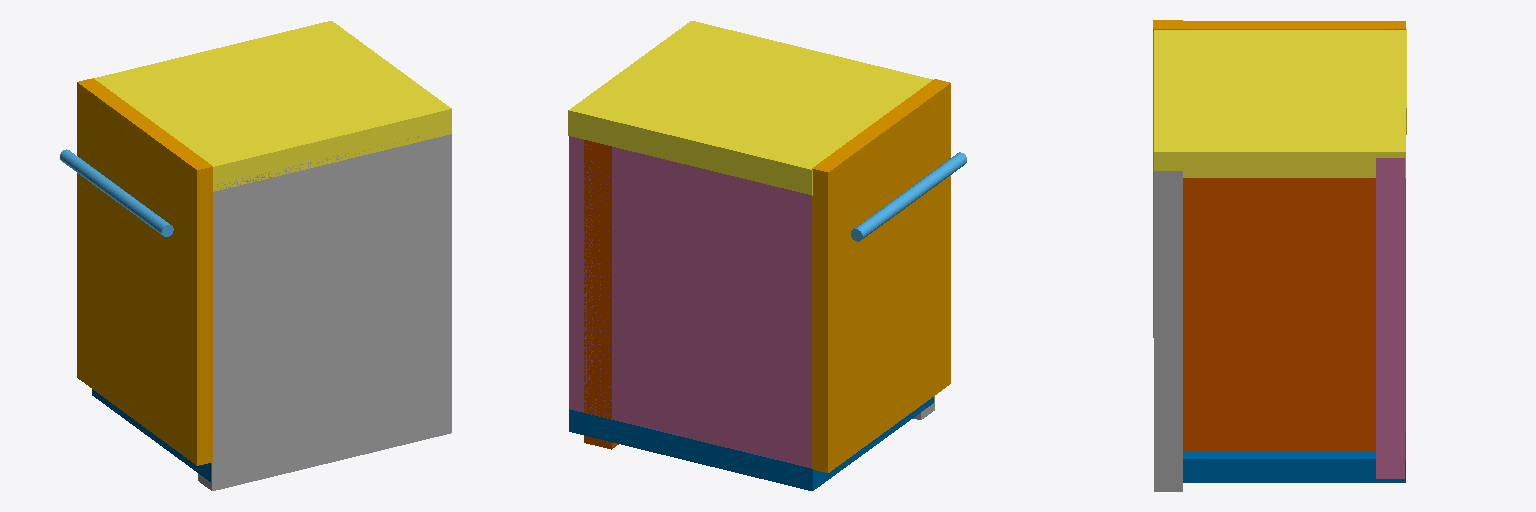
URDF robot description (iai_dishwasher):
<?xml version="1.0" ?>
<!-- =================================================================================== -->
<!-- |    This document was autogenerated by xacro from iai_kitchen_python.urdf.xacro  | -->
<!-- |    EDITING THIS FILE BY HAND IS NOT RECOMMENDED                                 | -->
<!-- =================================================================================== -->
<robot name="iai_dishwasher">
 
   <link name="odom_combined">
    <inertial>
      <origin rpy="0 0 0" xyz="0.0 0.0 0.0"/>
      <mass value="1"/>
      <inertia ixx="1" ixy="0.0" ixz="0.0" iyy="1" iyz="0.0" izz="1"/>
    </inertial>
  </link>
  <link name="world"/>
  <joint name="world_odom_joint" type="fixed">
    <origin rpy="0 0 0" xyz="0.0 0.0 0 "/>
    <parent link="world"/>
    <child link="odom_combined"/>
  </joint>

  <link name="sink_area_dish_washer_main" />
  
  <link name="dish_top">
    <inertial>
      <origin rpy="0 0 0" xyz="0.0 0.0 0.0"/>
      <mass value="1"/>
      <inertia ixx="1" ixy="0.0" ixz="0.0" iyy="1" iyz="0.0" izz="1"/>
    </inertial>
    <visual>
      <origin rpy="0 0 0" xyz="0 0 0"/>
      <geometry>
        <box size=".620 .54 .062"/>
      </geometry>
    </visual>
    <collision>
      <origin rpy="0 0 0" xyz="0 0 0"/>
      <geometry>
        <box size=".620 .54 .062"/>
      </geometry>
    </collision>
  </link>

  <link name="dish_bottom">
    <inertial>
      <origin rpy="0 0 0" xyz="0.0 0.0 0.0"/>
      <mass value="1"/>
      <inertia ixx="1" ixy="0.0" ixz="0.0" iyy="1" iyz="0.0" izz="1"/>
    </inertial>
    <visual>
    <origin rpy="0 0 0" xyz="0 0 0"/>
      <geometry>
        <box size=".620 .534 .055"/>
      </geometry>
    </visual>
    <collision>
    <origin rpy="0 0 0" xyz="0 0 0"/>
      <geometry>
        <box size=".620 .534 .055"/>
      </geometry>
    </collision>
  </link>

  <link name="dish_back">
    <inertial>
      <origin rpy="0 0 0" xyz="0.0 0.0 0.0"/>
      <mass value="1"/>
      <inertia ixx="1" ixy="0.0" ixz="0.0" iyy="1" iyz="0.0" izz="1"/>
    </inertial>
    <visual>
    <origin rpy="0 0 0" xyz="0 0 0"/>
      <geometry>
        <box size=".0710 .534 0.756"/>
      </geometry>
    </visual>
    <collision>
    <origin rpy="0 0 0" xyz="0 0 0"/>
      <geometry>
        <box size=".0710 .534 0.756"/>
      </geometry>
    </collision>
  </link>

    <link name="dish_right">
      <inertial>
        <origin rpy="0 0 0" xyz="0.0 0.0 0.0"/>
        <mass value="1"/>
        <inertia ixx="1" ixy="0.0" ixz="0.0" iyy="1" iyz="0.0" izz="1"/>
      </inertial>
        <visual>
        <origin rpy="0 0 0" xyz="0 0 0"/>
            <geometry>
                <box size=".620 .062 0.756"/>
            </geometry>
        </visual>
        <collision>
        <origin rpy="0 0 0" xyz="0 0 0"/>
            <geometry>
                <box size=".620 .062 0.756"/>
            </geometry>
        </collision>
    </link>

    <link name="dish_left">
      <inertial>
        <origin rpy="0 0 0" xyz="0.0 0.0 0.0"/>
        <mass value="1"/>
        <inertia ixx="1" ixy="0.0" ixz="0.0" iyy="1" iyz="0.0" izz="1"/>
      </inertial>
        <visual>
        <origin rpy="0 0 0" xyz="0 0 0"/>
            <geometry>
                <box size=".620 .062 0.756"/>
            </geometry>
        </visual>
        <collision>
        <origin rpy="0 0 0" xyz="0 0 0"/>
            <geometry>
                <box size=".620 .062 0.756"/>
            </geometry>
        </collision>
    </link>


   <link name="sink_area_dish_washer_door">
    <inertial>
      <origin rpy="0 0 0" xyz="0.0 0.0 0.0"/>
      <mass value="1"/>
      <inertia ixx="1" ixy="0.0" ixz="0.0" iyy="1" iyz="0.0" izz="1"/>
    </inertial>
    <visual>
      <origin rpy="0 0 0" xyz="0.013 -0.37 0.013"/>
      <geometry>
        <box size=".0420 .73 .540"/>
      </geometry>
    </visual>
    <collision>
      <origin rpy="0 0 0" xyz="0.013 -0.37 0.013"/>
      <geometry>
        <box size=".0420 .73 .540"/>
      </geometry>
    </collision>
  </link>

  <link name="sink_area_dish_washer_door_handle">
    <inertial>
      <origin rpy="0 0 0" xyz="0.0 0.0 0.0"/>
      <mass value="1"/>
      <inertia ixx="1" ixy="0.0" ixz="0.0" iyy="1" iyz="0.0" izz="1"/>
    </inertial>
    <visual>
      <origin rpy="1.57079 0 0" xyz="0 0 0"/>
      <geometry>
        <cylinder length="0.46" radius="0.015" />
      </geometry>
    </visual>
    <collision>
      <origin rpy="1.57079 0 0" xyz="0 0 0"/>
      <geometry>
        <cylinder length="0.46" radius="0.015" />
        <!-- <mesh filename="package://mujoco_sim/model/partial_kitchen/assets/handle60_rot.stl"/> -->
      </geometry>
    </collision>
  </link>


    <joint name="sink_area_dish_washer_main_joint" type="fixed">
        <origin rpy="0 0 3.14" xyz="1.555 0.2 0.4"/>
        <parent link="odom_combined"/>
        <child link="sink_area_dish_washer_main"/>
    </joint>

    <joint name="dish_top_joint" type="fixed">
        <origin rpy="0 0 0" xyz="-0.003 0.011 .352"/>
        <parent link="sink_area_dish_washer_main"/>
        <child link="dish_top"/>
    </joint>

    <joint name="dish_bottom_joint" type="fixed">
        <origin rpy="0 0 0" xyz="-0.003 0.009 -.37"/>
        <parent link="sink_area_dish_washer_main"/>
        <child link="dish_bottom"/>
    </joint>

     <joint name="dish_back_joint" type="fixed">
        <origin rpy="0 0 0" xyz="-0.24 0.01 -0.038"/>
        <parent link="sink_area_dish_washer_main"/>
        <child link="dish_back"/>
    </joint>

     <joint name="dish_right_joint" type="fixed">
        <origin rpy="0 0 0" xyz="-0.004 -.226 -0.01"/>
        <parent link="sink_area_dish_washer_main"/>
        <child link="dish_right"/>
    </joint>

    <joint name="dish_left_joint" type="fixed">
        <origin rpy="0 0 0" xyz="-0.004 0.25 -0.04"/>
        <parent link="sink_area_dish_washer_main"/>
        <child link="dish_left"/>
    </joint>

    <joint name="sink_area_dish_washer_door_joint" type="revolute">
        <origin rpy="-1.5707963267948966 0 0" xyz="0.312 0 -0.35"/>
        <parent link="sink_area_dish_washer_main"/>
        <child link="sink_area_dish_washer_door"/>
        <axis xyz="0 0 1"/>
        <limit effort="300" lower="0" upper="1.5707963267948966" velocity="10"/>
    </joint>

    <joint name="sink_area_dish_washer_door_handle_joint" type="fixed">
        <origin rpy="-1.5707963267948966 0 0" xyz="0.085 -0.580 0.010"/>
        <parent link="sink_area_dish_washer_door"/>
        <child link="sink_area_dish_washer_door_handle"/>
  </joint>
</robot>

--- Render facts (derived) ---
Views: 3 orthographic renders of the robot side by side, from view 1: azimuth 30°, elevation 25°; view 2: azimuth 150°, elevation 25°; view 3: azimuth 270°, elevation 25°.
Model iai_dishwasher with 10 links and 9 joints (1 revolute, 8 fixed), rooted at world, posed every joint at zero.
Links seen in each view (by area): view 1: dish_left, sink_area_dish_washer_door, dish_top, sink_area_dish_washer_door_handle, dish_bottom; view 2: dish_right, sink_area_dish_washer_door, dish_top, dish_back, dish_bottom, sink_area_dish_washer_door_handle; view 3: dish_back, dish_top, dish_right, dish_left, dish_bottom, sink_area_dish_washer_door.
Link boxes in pixels (left/top/right/bottom): dish_left: left=198, top=134, right=451, bottom=490; sink_area_dish_washer_door: left=77, top=78, right=212, bottom=465; dish_top: left=94, top=21, right=451, bottom=191; sink_area_dish_washer_door_handle: left=60, top=149, right=173, bottom=236; dish_bottom: left=92, top=389, right=210, bottom=481; dish_right: left=569, top=136, right=811, bottom=467; sink_area_dish_washer_door: left=812, top=79, right=950, bottom=472; dish_top: left=568, top=21, right=932, bottom=195; dish_back: left=584, top=140, right=618, bottom=449; dish_bottom: left=569, top=397, right=933, bottom=490; sink_area_dish_washer_door_handle: left=851, top=152, right=966, bottom=241; dish_back: left=1183, top=178, right=1375, bottom=451; dish_top: left=1154, top=29, right=1406, bottom=177; dish_right: left=1376, top=158, right=1405, bottom=478; dish_left: left=1154, top=171, right=1182, bottom=491; dish_bottom: left=1183, top=433, right=1405, bottom=482; sink_area_dish_washer_door: left=1153, top=20, right=1405, bottom=337.
Size in the robot's own frame: 0.7268 by 0.542 by 0.803 metres.
Geometry: primitives only (box / cylinder / sphere), no mesh files.